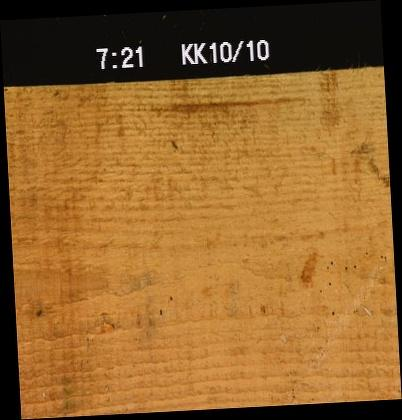small_knot: (33, 307, 45, 317)
